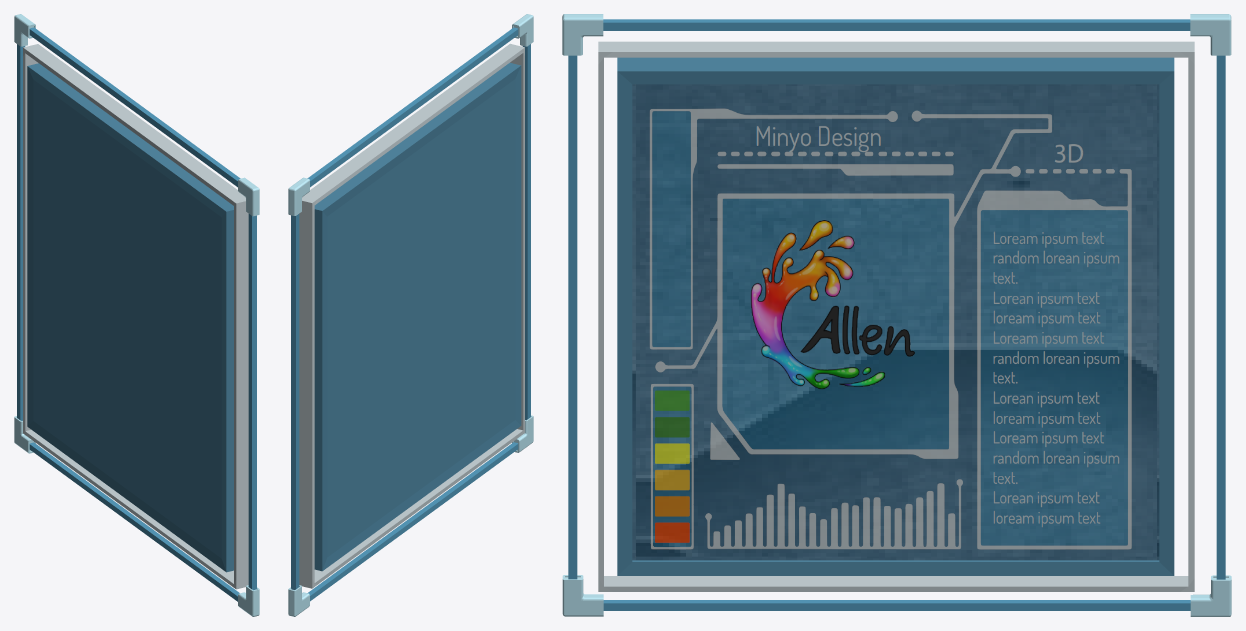
File: Disketa-meniu.glb
The picture shows the model from 3 angles, left to right: view 1: azimuth 30°, elevation 25°; view 2: azimuth 150°, elevation 25°; view 3: azimuth 270°, elevation 25°; orthographic projection. The views are drawn at different scales.
Visible parts, largest first — view 1: spate, rama interior, rama exterior, colturi; view 2: spate, rama interior, rama exterior, colturi; view 3: view, spate, rama interior, rama exterior, colturi.
Part boxes in pixels (x1,y1,x2,y2): spate: [27, 63, 233, 572]; rama interior: [23, 44, 248, 589]; rama exterior: [17, 27, 256, 601]; colturi: [14, 14, 259, 616]; spate: [314, 63, 521, 571]; rama interior: [299, 43, 524, 588]; rama exterior: [291, 27, 530, 601]; colturi: [288, 14, 533, 616]; view: [632, 84, 1159, 560]; spate: [617, 57, 1174, 575]; rama interior: [598, 41, 1194, 591]; rama exterior: [568, 19, 1225, 610]; colturi: [562, 14, 1231, 616].
Size of the model in its own units: 0.3459 by 6.77 by 6.85.
5 materials, 1 textured.
